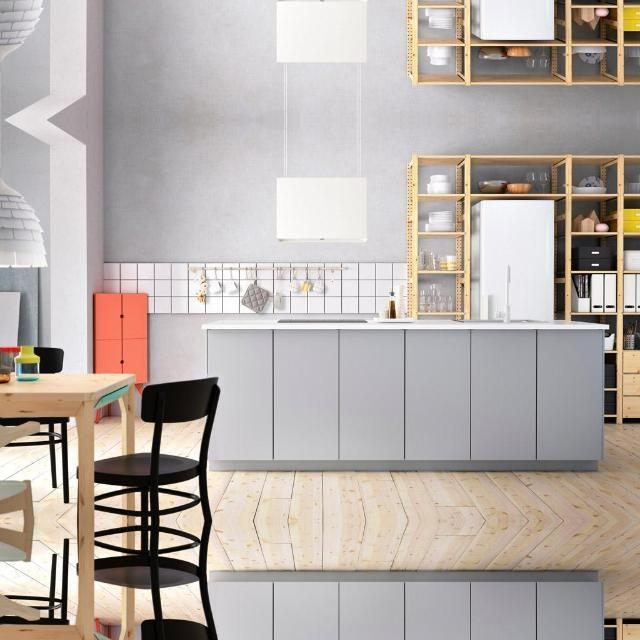obstacle: (0, 335, 222, 520), (0, 520, 222, 640)
